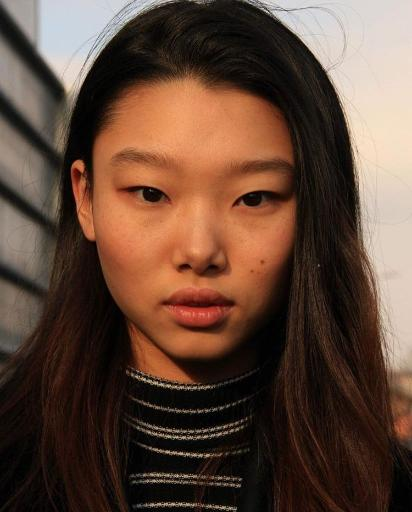left_eye: (232, 188, 282, 213)
left_lip_corner: (230, 298, 241, 313)
right_eye: (125, 184, 173, 209)
right_lip_corner: (160, 298, 172, 312)
